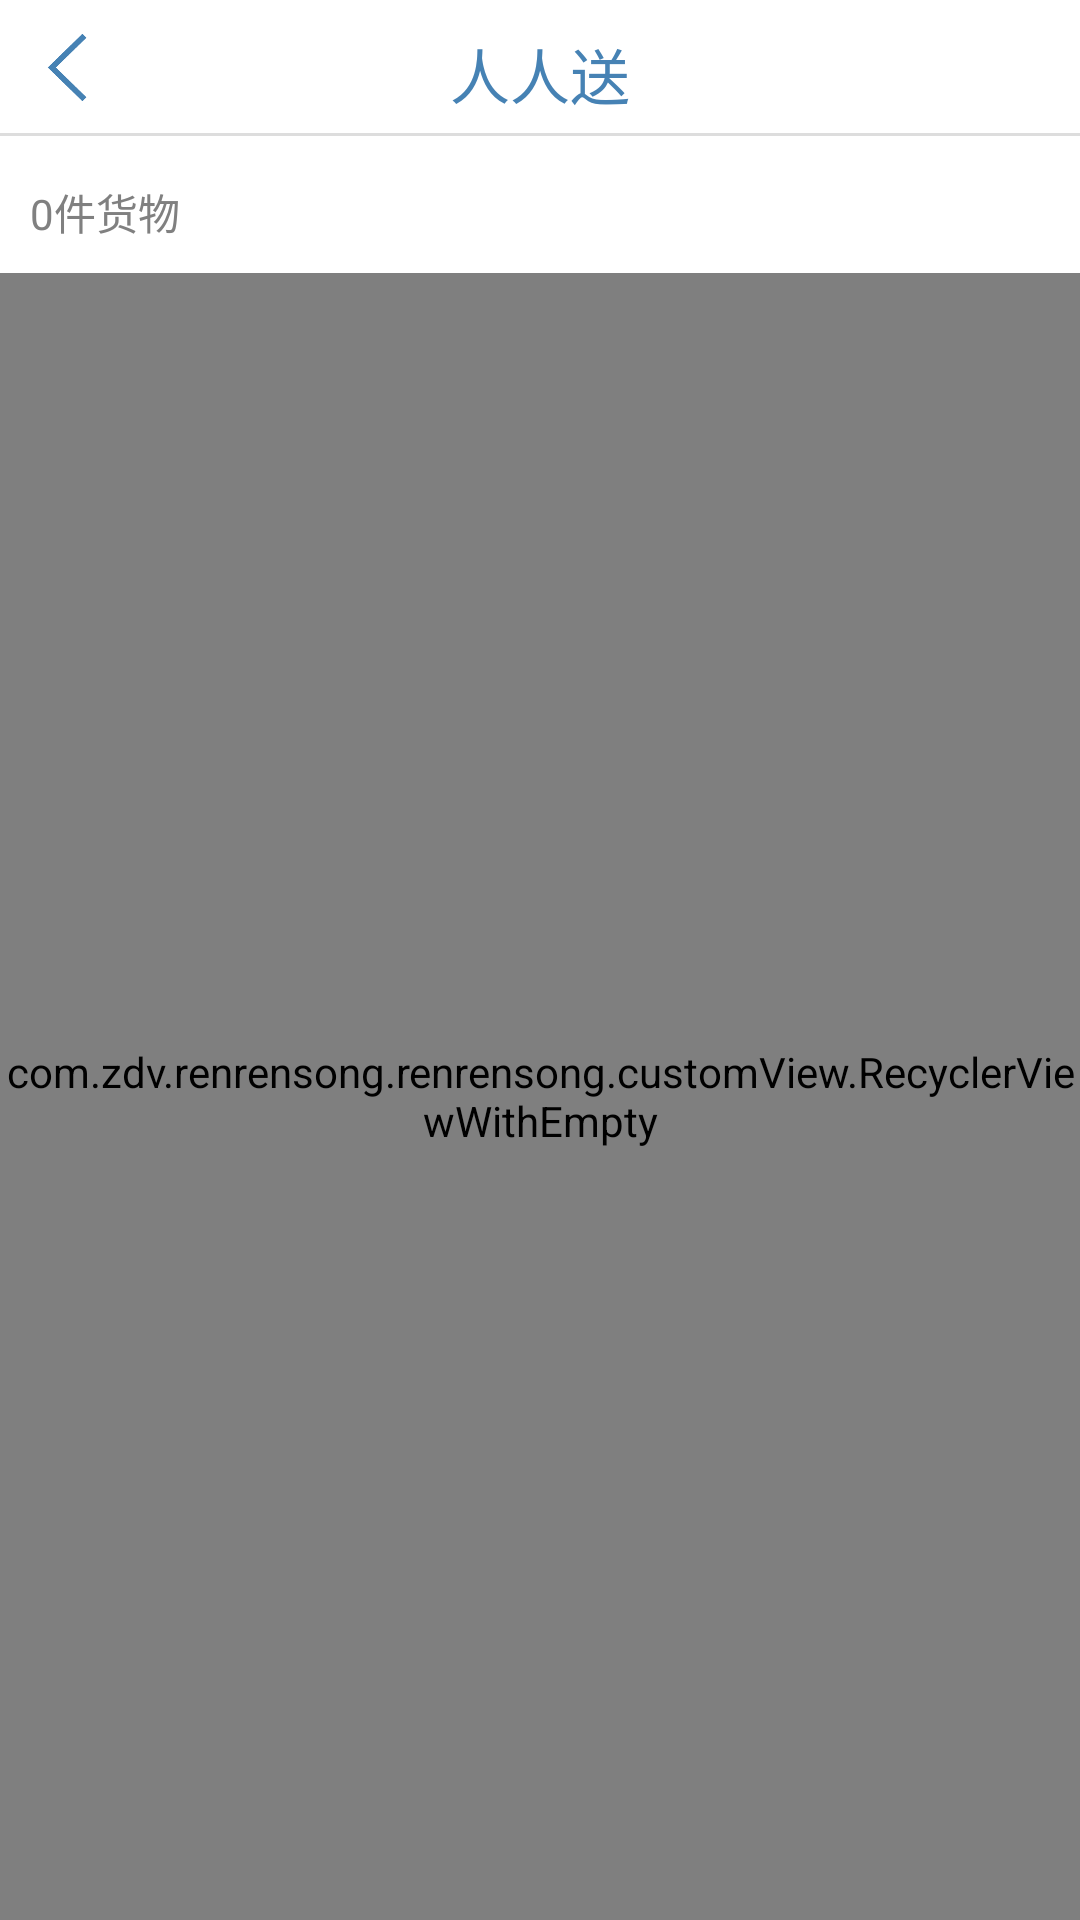

Icons on this 1080×1920 Android screen, each with its box as bbox(x1, y1, x2, y2):
back: bbox(48, 34, 86, 101)
